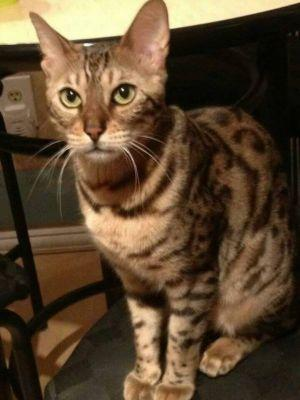bengal: (20, 1, 184, 178)
